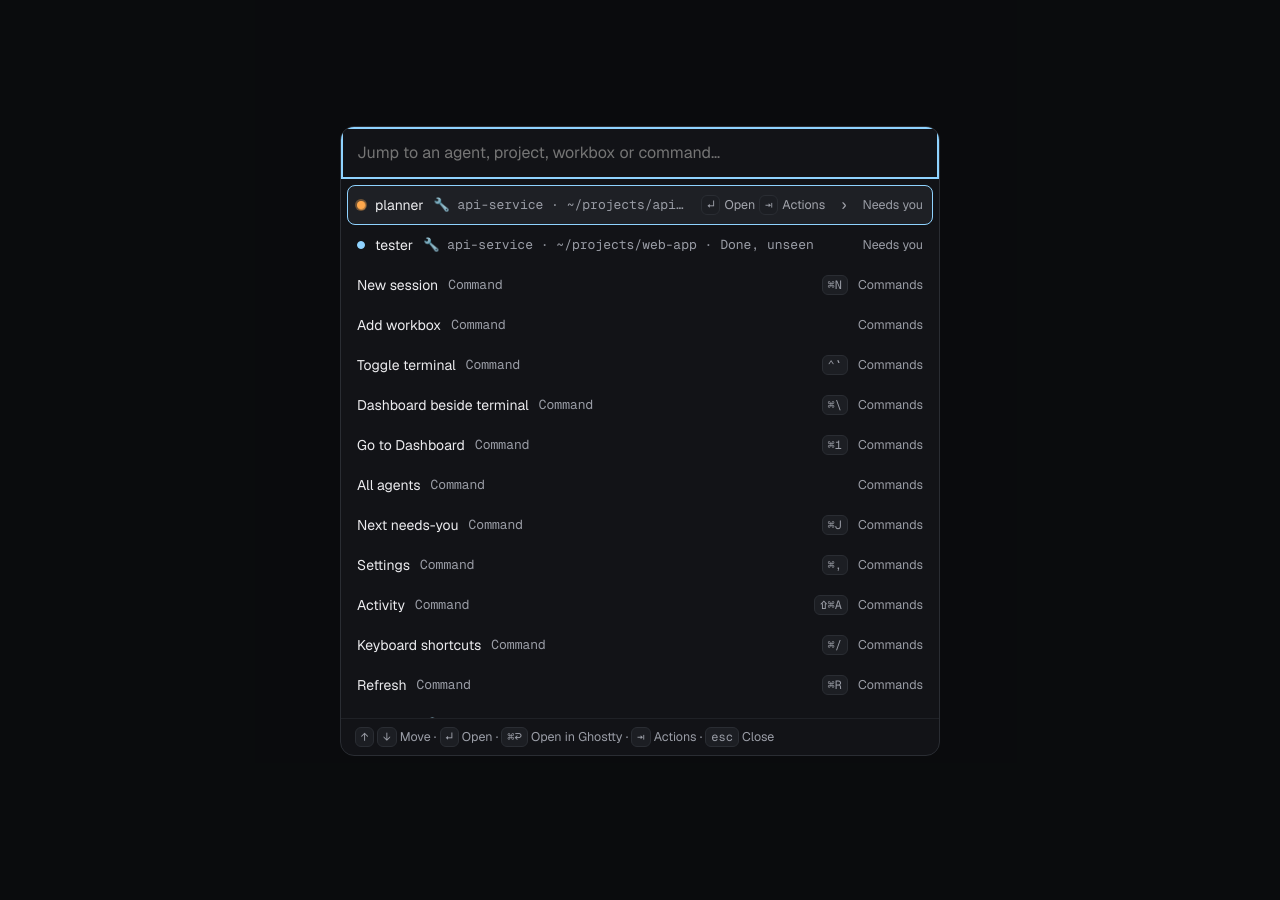
Test: CommandPalette agent frame › marks_exactly_the_matched_letters_after_an_emoji
Type "api" into the dropdown at {"x": 640, "y": 153}, box top-left (341, 127), bottom-right (939, 179)
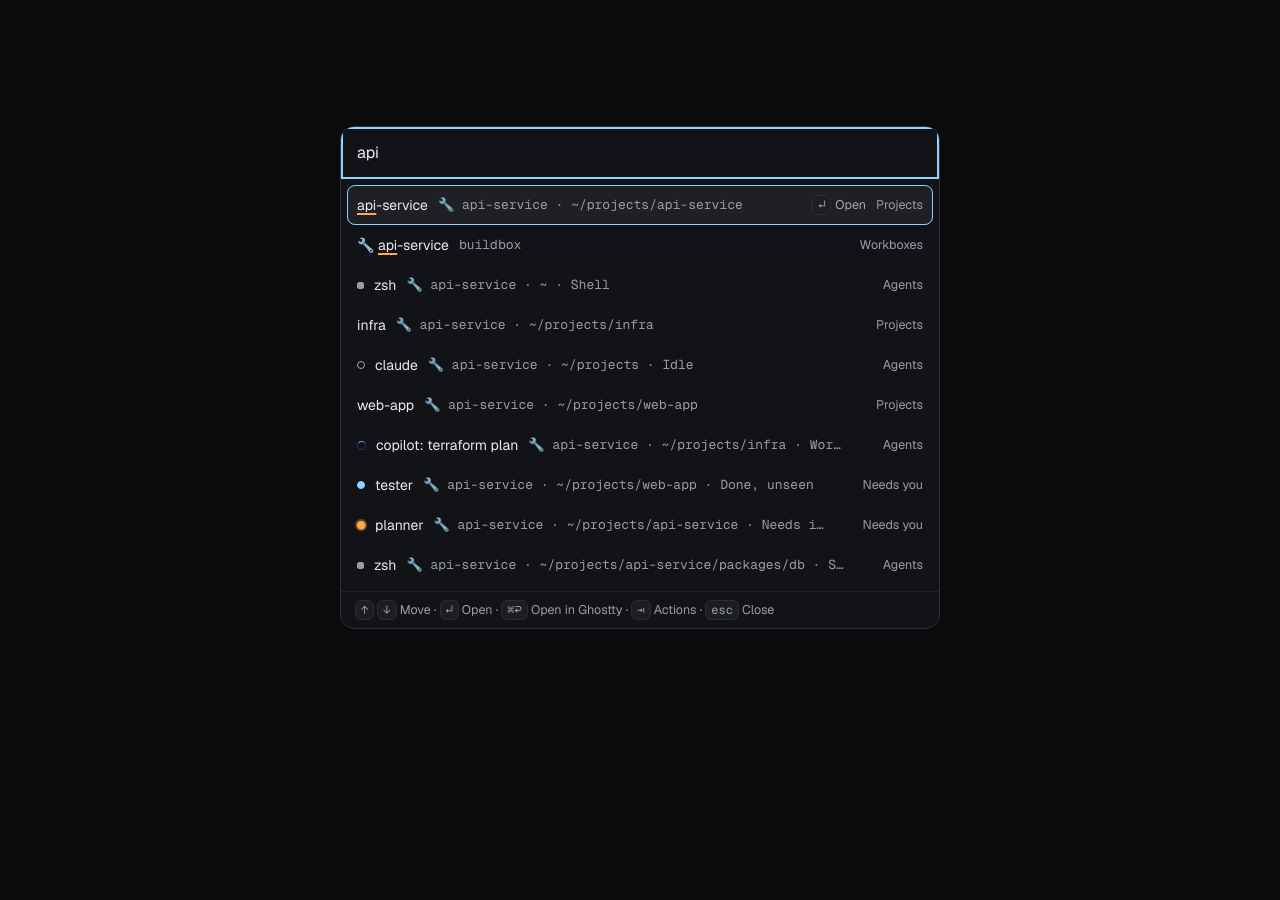
Expected: the option "🔧 api-service buildbox Workboxes" is shown, top-left (357, 236), bottom-right (923, 254)
